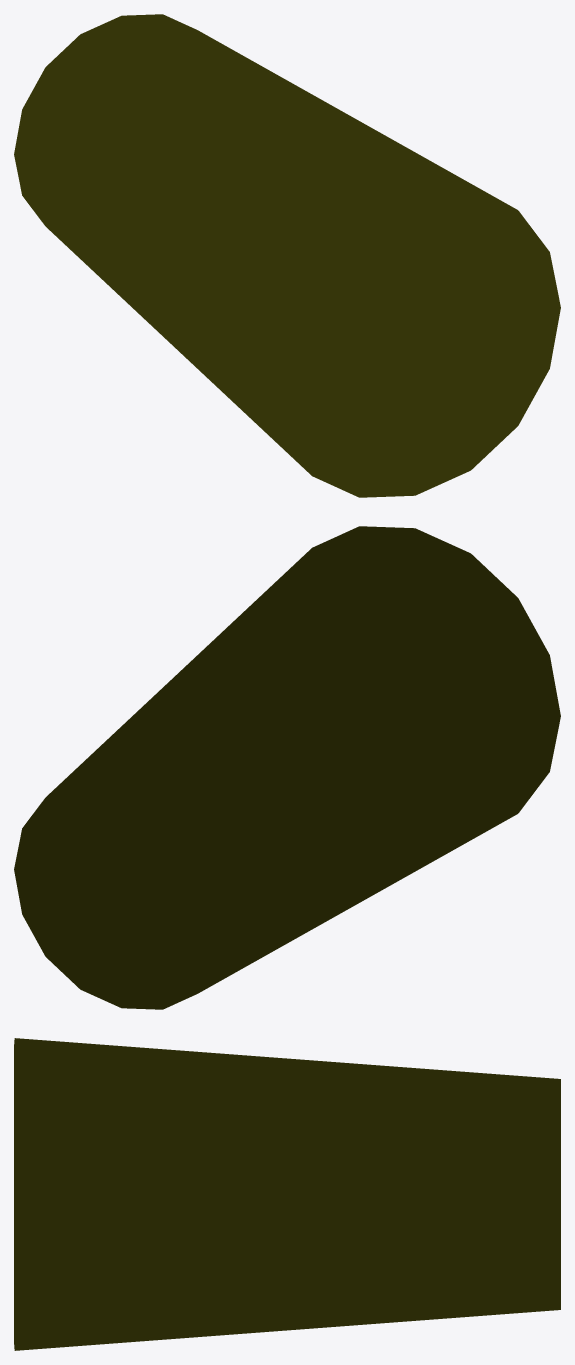
Rendered from solo_cup.dae.
The picture shows the model from 3 angles, top to bottom: view 1: azimuth 30°, elevation 25°; view 2: azimuth 150°, elevation 25°; view 3: azimuth 270°, elevation 25°; orthographic projection. The views are drawn at different scales.
Parts seen in each view (by area): view 1: Cylinder2-0; view 2: Cylinder2-0; view 3: Cylinder2-0.
Part boxes in pixels (left/top/right/bottom): Cylinder2-0: left=14, top=14, right=560, bottom=497; Cylinder2-0: left=14, top=526, right=560, bottom=1009; Cylinder2-0: left=14, top=1038, right=560, bottom=1350.
Size of the model in its own units: 0.0745 by 0.0745 by 0.1302.
